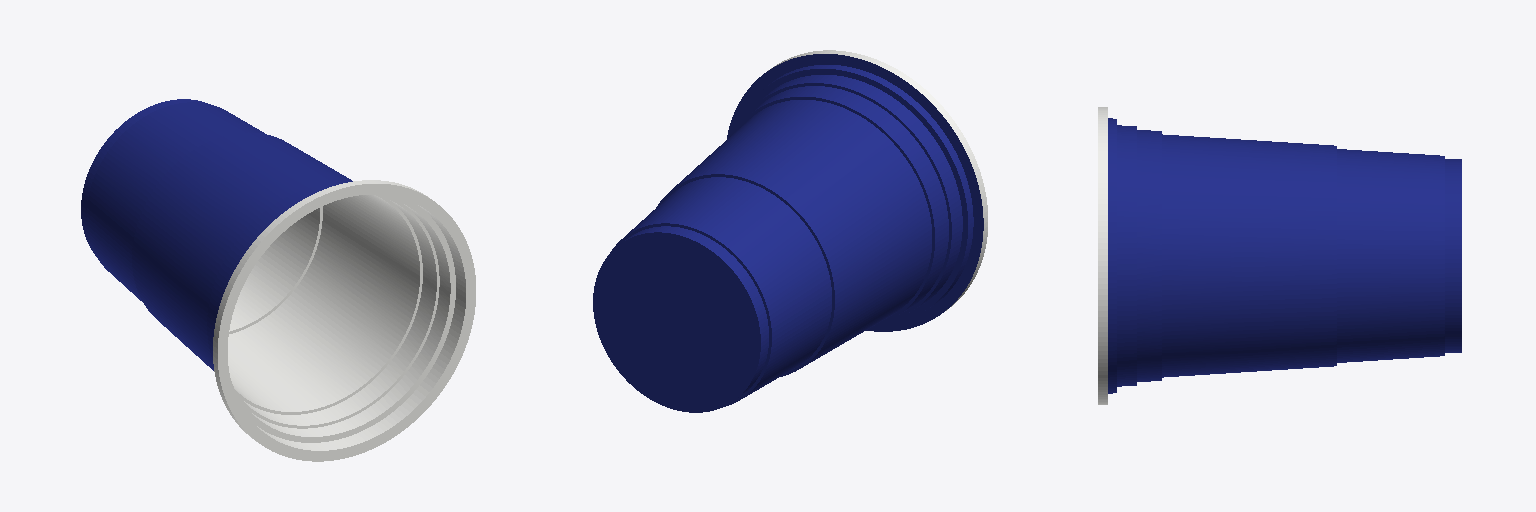
File: cup_blue.obj
The picture shows the model from 3 angles: view 1: azimuth 30°, elevation 25°; view 2: azimuth 150°, elevation 25°; view 3: azimuth 270°, elevation 25°; orthographic projection.
Visible parts, largest first — view 1: Body1; view 2: Body1; view 3: Body1.
Boxes of the visible parts, x1=… form: Body1: x1=81, y1=99, x2=475, y2=461; Body1: x1=593, y1=50, x2=987, y2=412; Body1: x1=1098, y1=107, x2=1461, y2=404.
Size of the model in its own units: 0.094 by 0.094 by 0.1145.